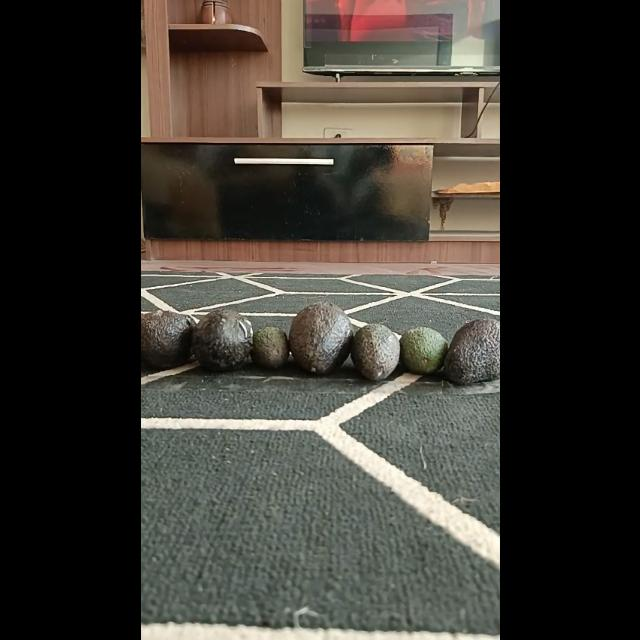Primera: (288, 301, 352, 374), (190, 307, 253, 371), (444, 318, 501, 384), (140, 309, 196, 369)
Segunda: (350, 324, 400, 381), (398, 326, 448, 374)
Tercera: (250, 326, 288, 368)
